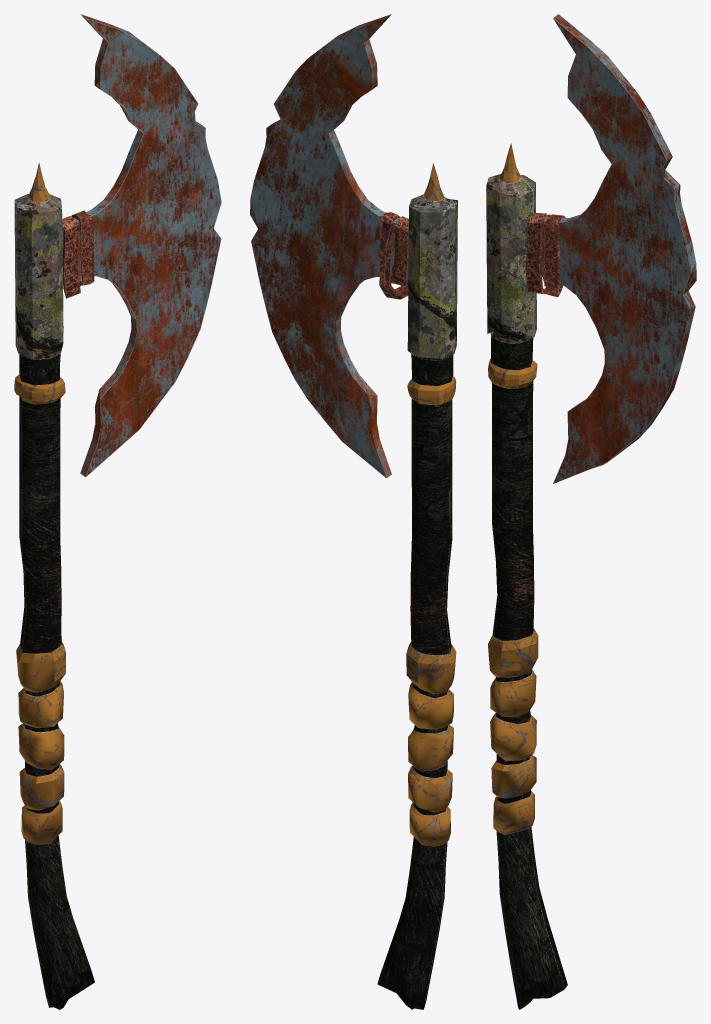
The model's file is Axe2.fbx.
3 views of the same model, side by side, from view 1: azimuth 30°, elevation 25°; view 2: azimuth 150°, elevation 25°; view 3: azimuth 330°, elevation 25° (orthographic).
Parts seen in each view (by area): view 1: mesh_1, mesh_2, mesh_3, mesh_4; view 2: mesh_1, mesh_2, mesh_3, mesh_4; view 3: mesh_1, mesh_2, mesh_3, mesh_4.
Part boxes in pixels (left/top/right/bottom): mesh_1: left=14, top=14, right=221, bottom=477; mesh_2: left=19, top=353, right=94, bottom=1009; mesh_3: left=14, top=375, right=65, bottom=844; mesh_4: left=62, top=210, right=94, bottom=298; mesh_1: left=250, top=14, right=457, bottom=478; mesh_2: left=377, top=353, right=453, bottom=1009; mesh_3: left=406, top=376, right=456, bottom=846; mesh_4: left=379, top=212, right=408, bottom=299; mesh_1: left=486, top=14, right=696, bottom=483; mesh_2: left=491, top=337, right=567, bottom=1009; mesh_3: left=488, top=358, right=538, bottom=834; mesh_4: left=525, top=212, right=565, bottom=297.
Size of the model in its own units: 19.32 by 89.78 by 4.2.
1 material, 1 textured.
